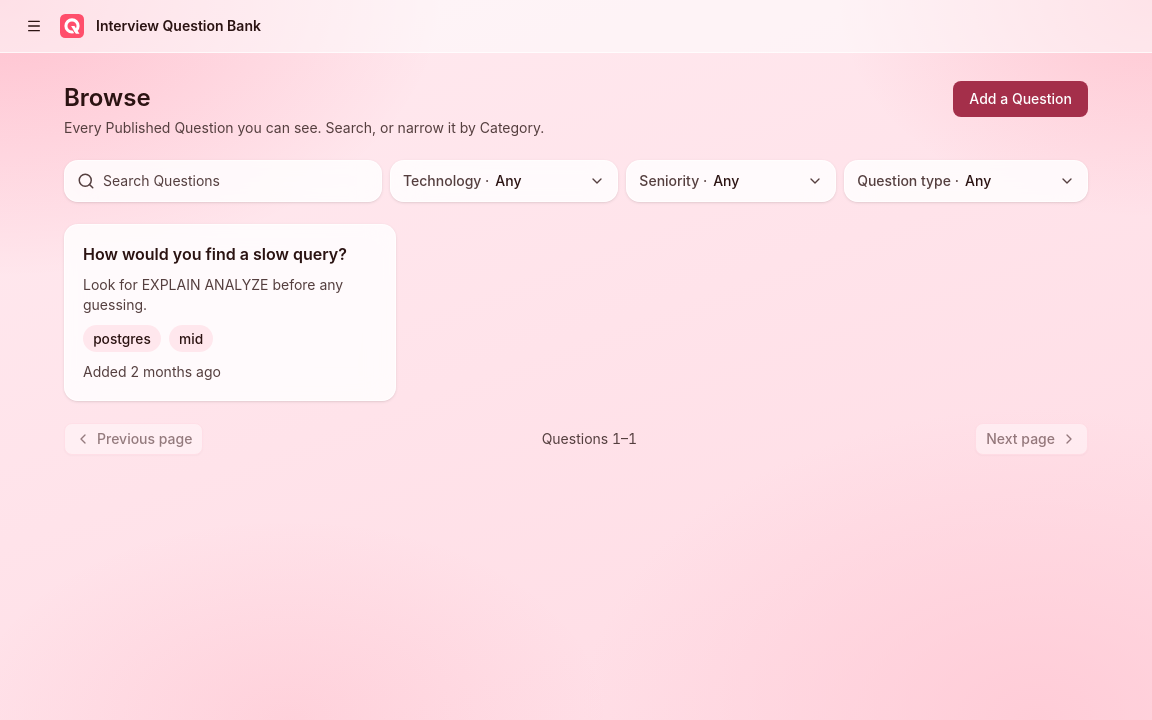
Test case: the Question page › opens from the Question's title on the browse list
This screenshot has width=1152, height=720.
Click the link "How would you find a slow query?" at [215, 254], box [83, 244, 347, 264]
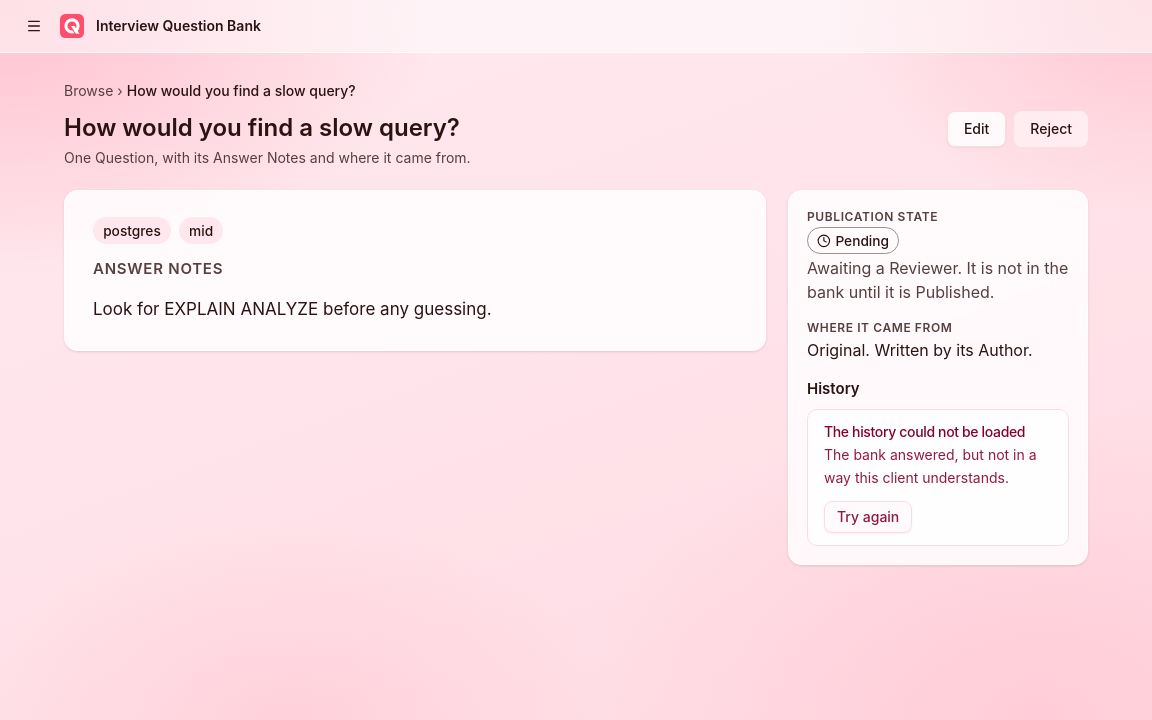
Now the heading "How would you find a slow query?" is shown, box [64, 113, 460, 142]
